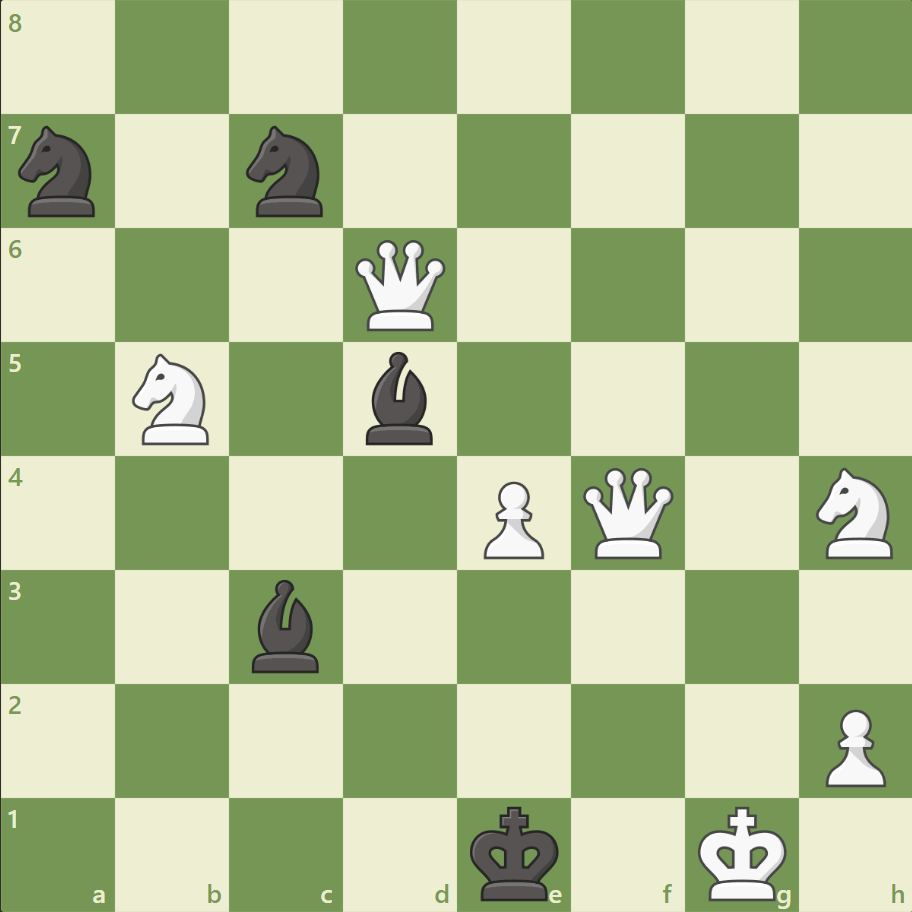K: (692, 798, 792, 906)
N: (124, 348, 222, 450), (806, 461, 903, 564)
P: (474, 473, 549, 564), (815, 700, 889, 791)
Q: (351, 236, 450, 335), (578, 463, 677, 562)
b: (358, 347, 442, 449), (244, 574, 328, 676)
k: (465, 798, 565, 906)
n: (11, 121, 108, 223), (238, 121, 335, 223)
